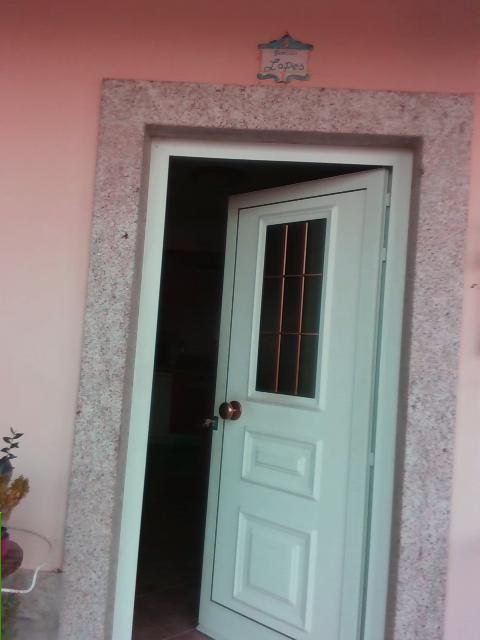semi_door: (108, 119, 423, 639)
